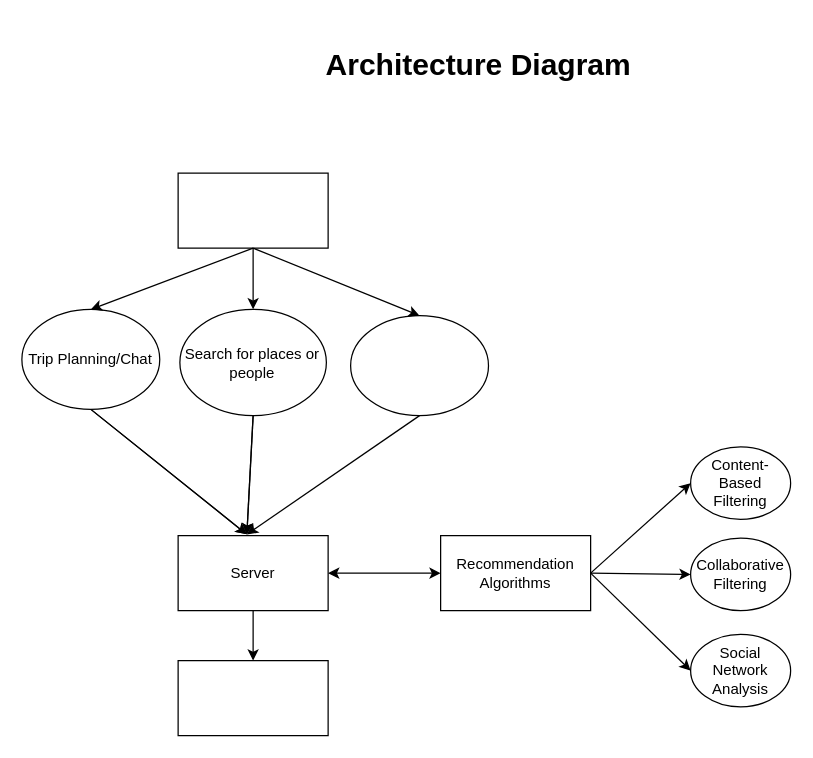
Some shapes in this 813 by 758 pixel diagram are drawn without their labels. Each missing label, with the centre of its shape:
"Database" belongs at point (252, 697).
"Homepage Recommendations" belongs at point (418, 365).
"User Browser" belongs at point (252, 210).
